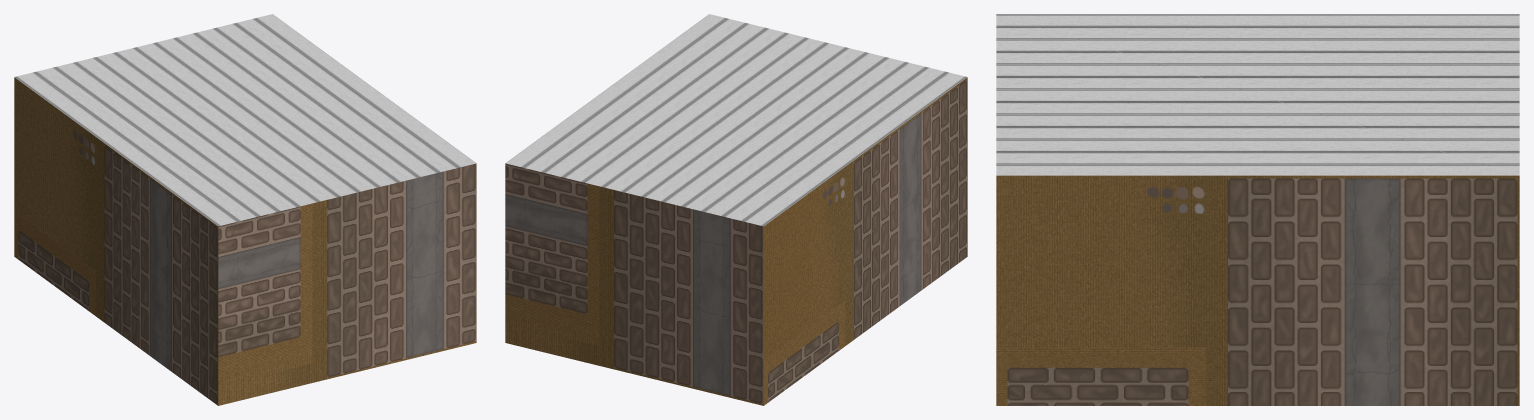
File: Room.fbx
3 renders of one model, left to right at view 1: azimuth 30°, elevation 25°; view 2: azimuth 150°, elevation 25°; view 3: azimuth 270°, elevation 25°, orthographic. The views are drawn at different scales.
Visible parts, largest first — view 1: Room; view 2: Room; view 3: Room.
Part boxes in pixels (<box>): Room: <box>14,14,476,405</box>; Room: <box>505,14,967,405</box>; Room: <box>996,14,1519,405</box>.
Bounding box in the file's own units: 40.83 × 27.09 × 55.82.
